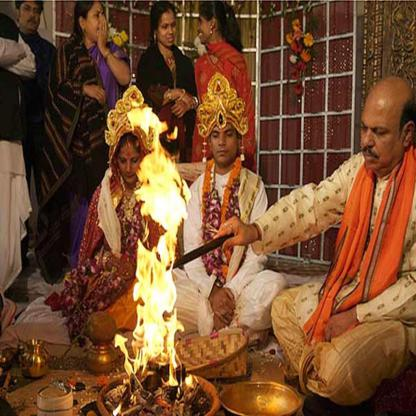face: (362, 102, 403, 172), (211, 124, 239, 164), (119, 143, 145, 185), (86, 2, 108, 42), (159, 9, 179, 48), (21, 3, 43, 33), (198, 11, 212, 44)
